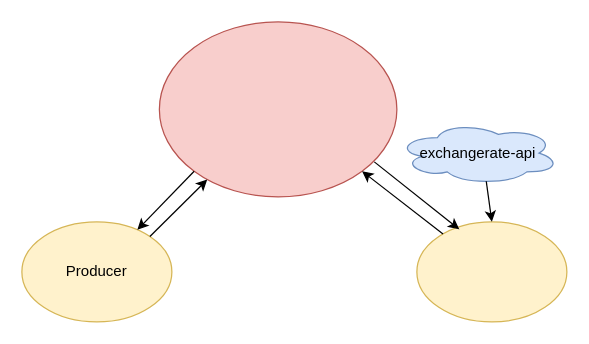
Some shapes in this 589 by 344 pixel diagram are drawn without their labels. Each missing label, with the centre of its shape:
BROKER Celery: point 277,109
Consumer: point 491,271
